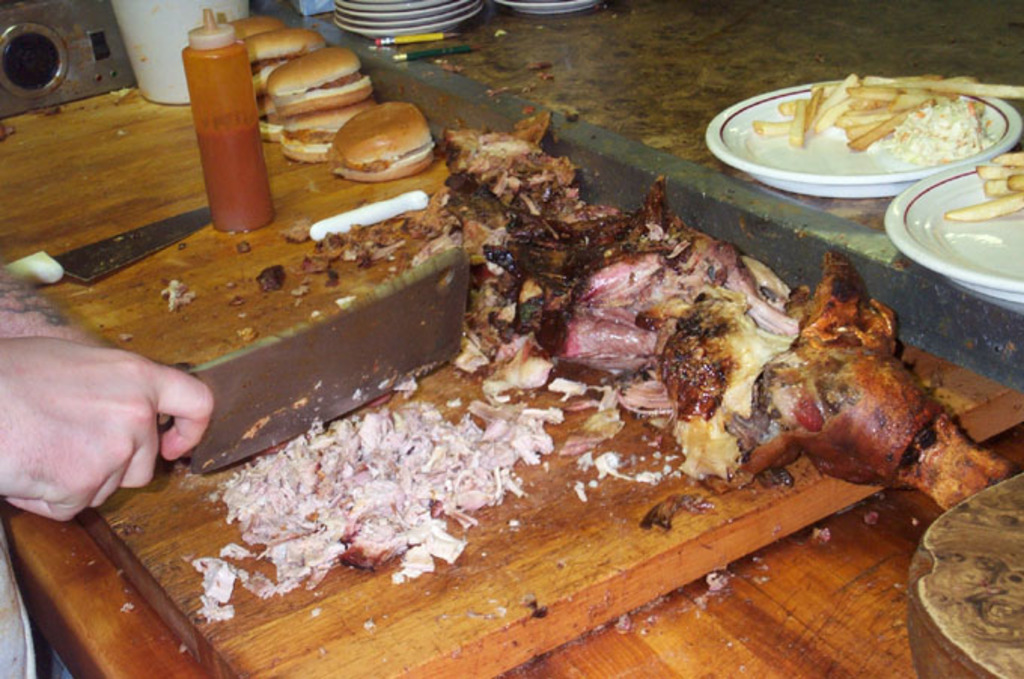French fries: (749, 76, 1005, 176), (948, 149, 1022, 219)
